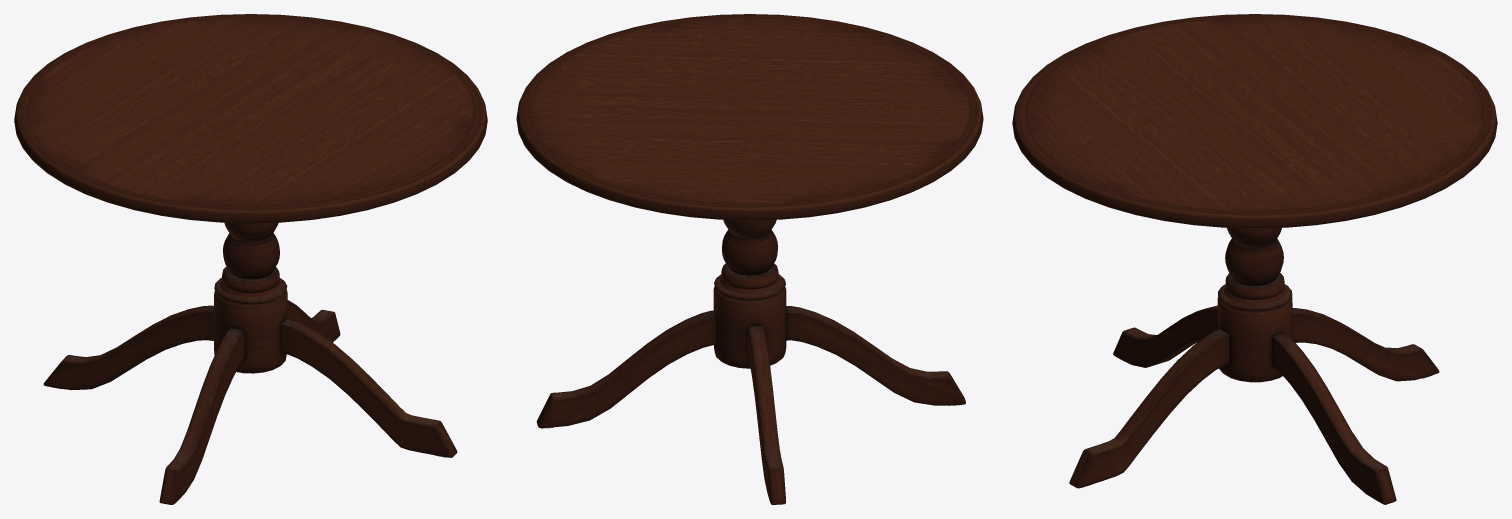
Rendered from round_wooden_table.glb.
3 renders of one model, left to right at view 1: azimuth 30°, elevation 25°; view 2: azimuth 150°, elevation 25°; view 3: azimuth 270°, elevation 25°, orthographic. The views are drawn at different scales.
Visible parts, largest first — view 1: round_wooden_table_01; view 2: round_wooden_table_01; view 3: round_wooden_table_01.
Boxes of the visible parts, <box> form: round_wooden_table_01: <box>14,14,487,504</box>; round_wooden_table_01: <box>516,14,983,504</box>; round_wooden_table_01: <box>1012,14,1497,504</box>.
Bounding box in the file's own units: 1.4 × 1.01 × 1.4.
Materials: 1 (1 with a texture image).
